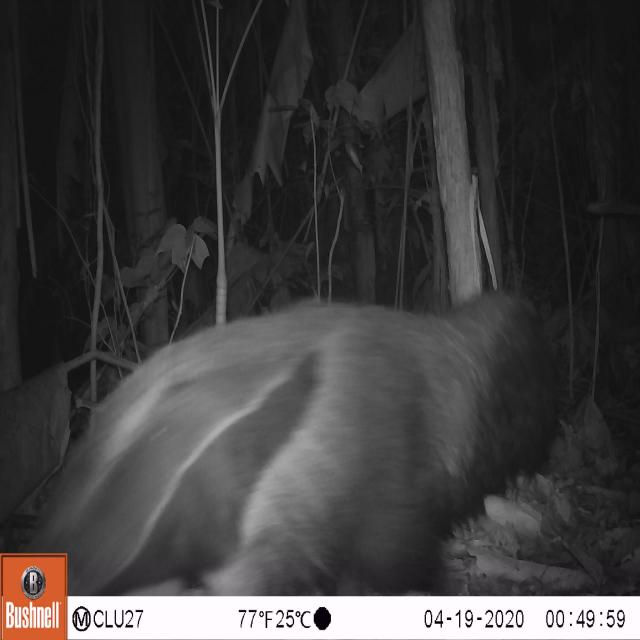Giant Anteater: (23, 271, 570, 594)
